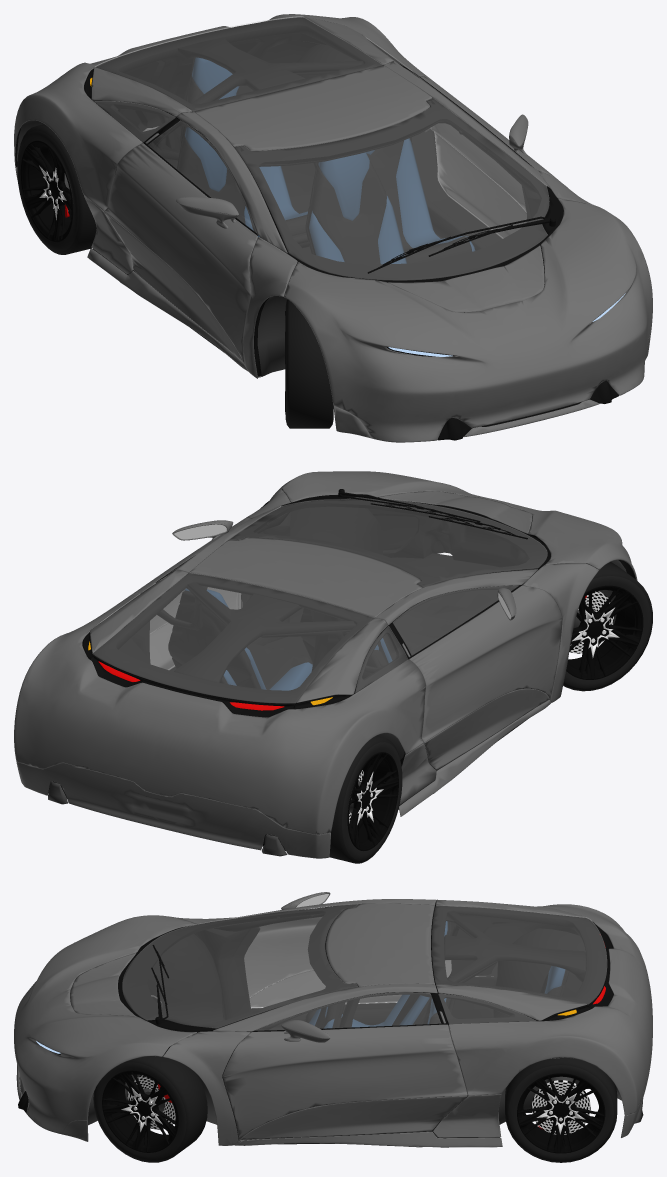
The model's file is car.glb.
3 views of the same model, one above another, from view 1: azimuth 30°, elevation 25°; view 2: azimuth 150°, elevation 25°; view 3: azimuth 270°, elevation 25° (orthographic). The views are drawn at different scales.
Parts seen in each view (by area): view 1: BodyHood, BodyWindshield, BodyRearwindow, BodyDoorRColor1, BodyRearPanelsColor1, BodyRoofPanel, BodyWindshieldGasket, InteriorSeatsColor1, InteriorSeatsColor2, BodyPillars, InteriorPillar, InteriorRearHatch (+18 smaller); view 2: BodyRearPanelsColor1, BodyRearwindow, BodyWindshield, BodyPanelsColor2, BodyDoorRColor1, BodyRoofPanel, InteriorFloor, BodyHood, InteriorRearHatch, BodyPillars, InteriorPillar, BodyWindshieldGasket (+20 smaller); view 3: BodyRearPanelsColor1, BodyWindshield, BodyDoorLColor1, BodyHood, BodyRearwindow, BodyRoofPanel, InteriorFloor, BodyPillars, BodyWindshieldGasket, BodyDoorLColor2, BodyPanelsColor2, InteriorMid (+21 smaller).
Boxes of the visible parts, x1,y1,x2,y2 form: BodyHood: (283,198,652,442); BodyWindshield: (234,98,549,280); BodyRearwindow: (95,16,382,110); BodyDoorRColor1: (104,143,257,363); BodyRearPanelsColor1: (14,14,435,210); BodyRoofPanel: (193,65,432,150); BodyWindshieldGasket: (234,99,563,282); InteriorSeatsColor1: (185,57,475,264); InteriorSeatsColor2: (180,78,472,264); BodyPillars: (176,61,598,378); InteriorPillar: (158,37,434,168); InteriorRearHatch: (93,17,383,117); BodyRearPanelsColor1: (14,569,425,834); BodyRearwindow: (92,573,373,703); BodyWindshield: (229,497,547,587); BodyPanelsColor2: (16,666,550,858); BodyDoorRColor1: (409,585,562,742); BodyRoofPanel: (189,537,422,617); InteriorFloor: (264,506,627,753); BodyHood: (279,471,637,580); InteriorRearHatch: (93,573,386,707); BodyPillars: (175,489,599,702); InteriorPillar: (174,574,417,682); BodyWindshieldGasket: (230,497,550,587); BodyRearPanelsColor1: (436,899,652,1115); BodyWindshield: (122,904,357,1028); BodyDoorLColor1: (222,1024,467,1139); BodyHood: (14,915,196,1133); BodyRearwindow: (432,905,606,1003); BodyRoofPanel: (326,903,434,986); InteriorFloor: (19,928,585,1144); BodyPillars: (163,899,437,1145); BodyWindshieldGasket: (118,905,357,1032); BodyDoorLColor2: (240,1096,467,1140); BodyPanelsColor2: (16,976,652,1147); InteriorMid: (194,922,499,1143).
Size of the model in its own units: 2.54 by 1.15 by 4.36.
Materials: 18 (1 with a texture image).
